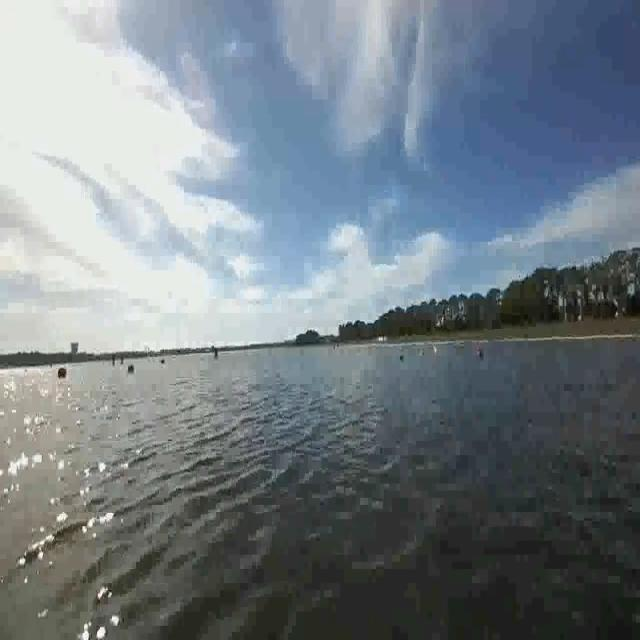green-buoy: (126, 358, 134, 372)
red-buoy: (56, 366, 66, 379)
